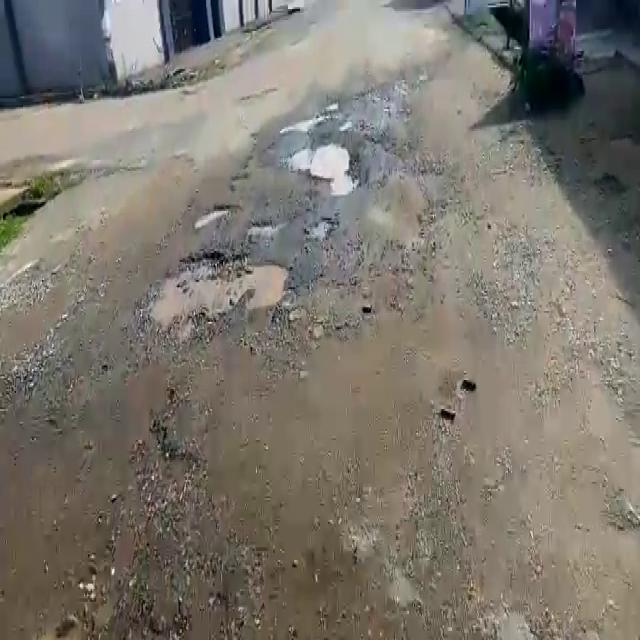Pothole: (133, 248, 294, 339), (282, 144, 360, 194), (194, 202, 237, 232), (244, 219, 280, 237)
